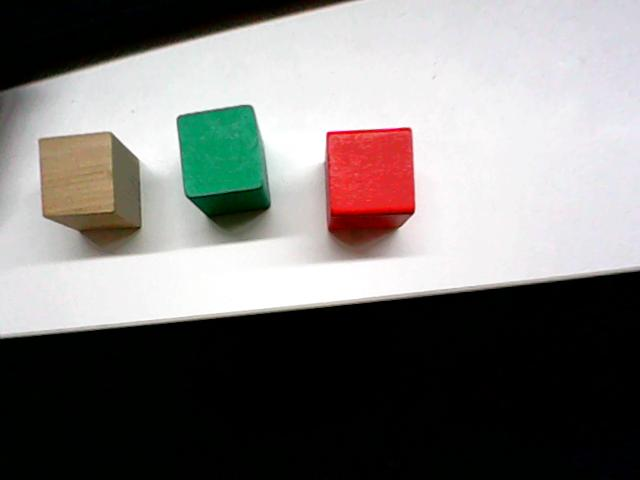green_box: (173, 100, 273, 221)
raw_box: (31, 127, 149, 237)
red_box: (321, 122, 419, 235)
